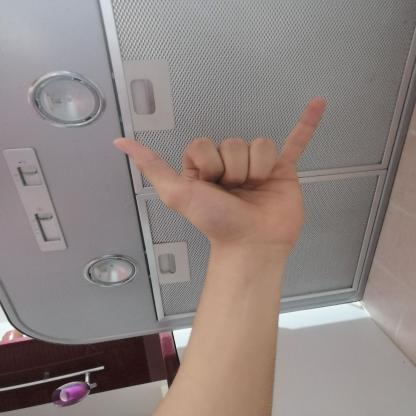YA: (96, 85, 344, 268)
